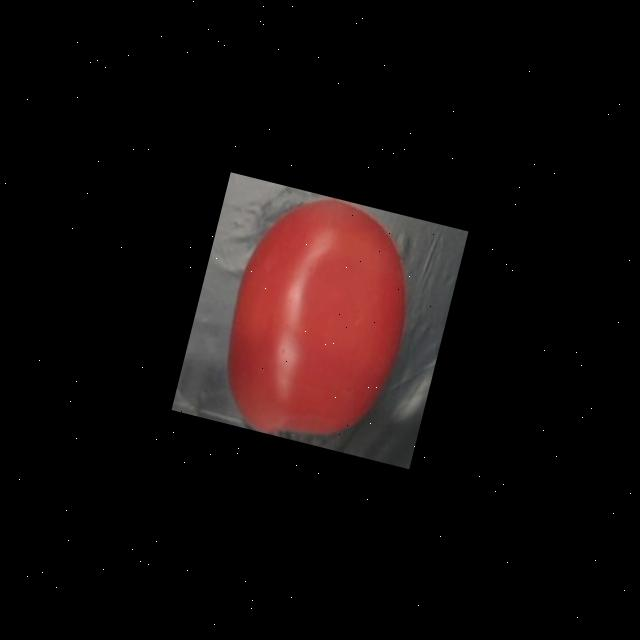tomato: (200, 178, 436, 460)
